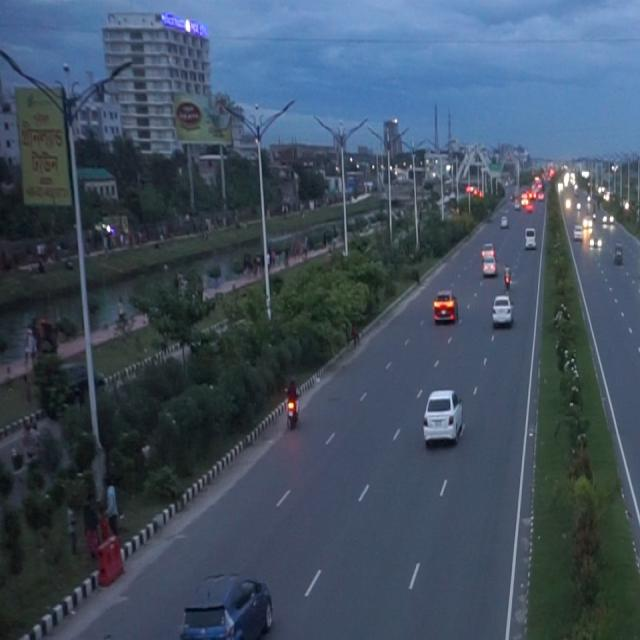car: (428, 278, 460, 326), (489, 274, 515, 330)
